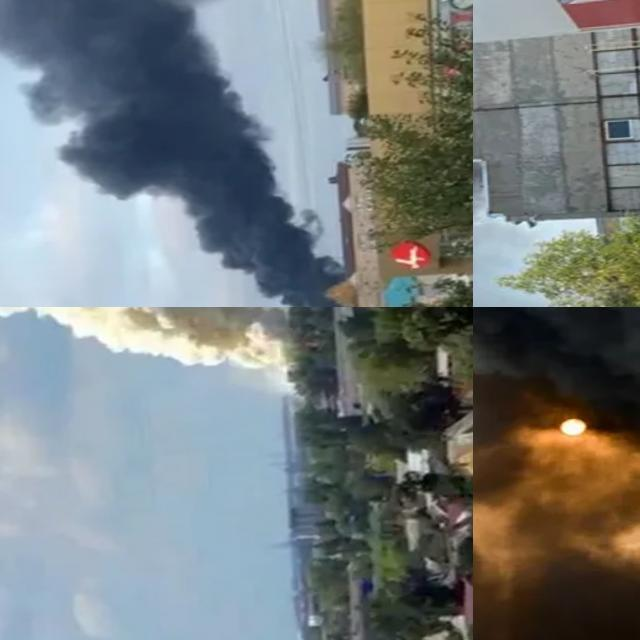smoke: (0, 0, 358, 307), (473, 442, 640, 640), (473, 307, 640, 475)
